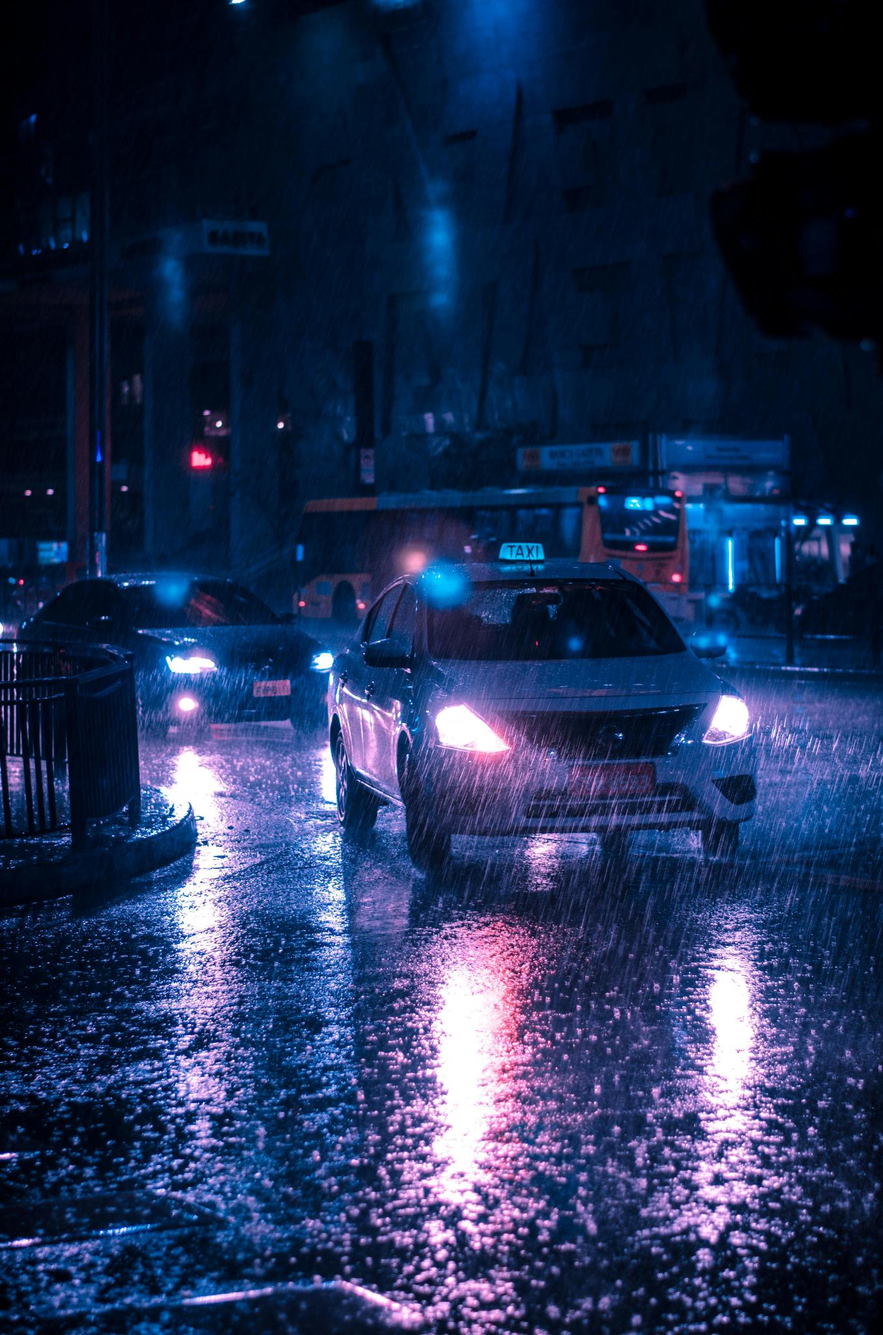car: (330, 573, 763, 858)
